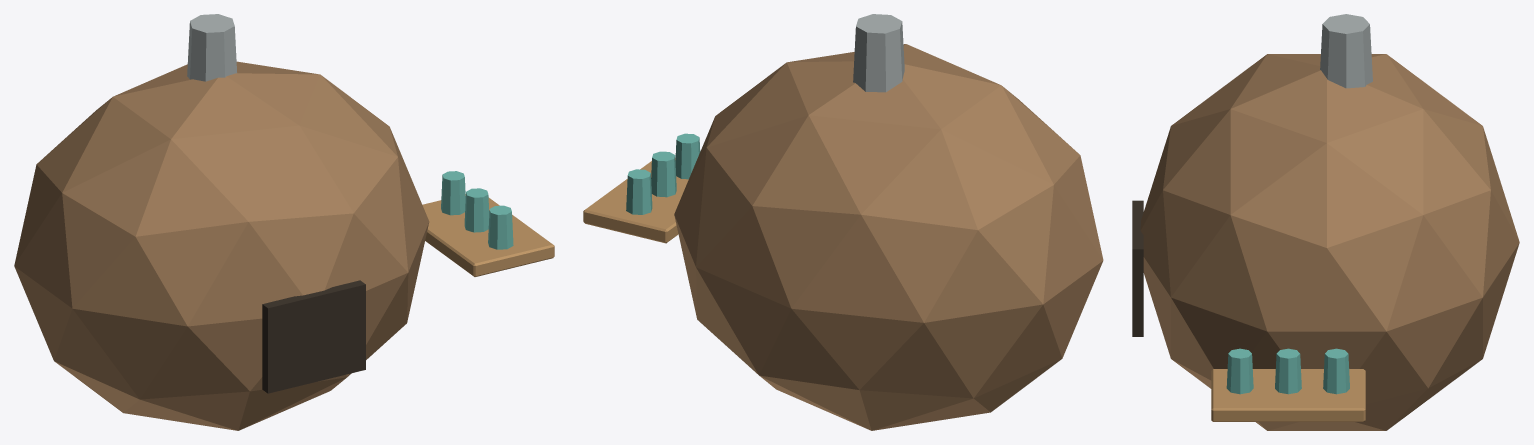
File: CC_Kiln.fbx
3 views of the same model, side by side, from view 1: azimuth 30°, elevation 25°; view 2: azimuth 150°, elevation 25°; view 3: azimuth 270°, elevation 25° (orthographic). The views are drawn at different scales.
Visible parts, largest first — view 1: Kiln dome, Kiln mouth, Glass shelf, Kiln vent, Glass vessel, Glass vessel.001, Glass vessel.002; view 2: Kiln dome, Kiln vent, Glass shelf, Glass vessel.002, Glass vessel.001, Glass vessel; view 3: Kiln dome, Glass shelf, Kiln vent, Kiln mouth, Glass vessel, Glass vessel.002, Glass vessel.001.
Part boxes in pixels (<box>): Kiln dome: <box>14,61,429,430</box>; Kiln mouth: <box>262,280,365,393</box>; Glass shelf: <box>422,194,554,276</box>; Kiln vent: <box>187,14,236,81</box>; Glass vessel: <box>488,205,513,249</box>; Glass vessel.001: <box>464,188,489,232</box>; Glass vessel.002: <box>441,171,465,215</box>; Kiln dome: <box>674,44,1103,430</box>; Kiln vent: <box>853,14,904,92</box>; Glass shelf: <box>583,158,688,243</box>; Glass vessel.002: <box>626,169,652,214</box>; Glass vessel.001: <box>651,151,676,197</box>; Glass vessel: <box>675,133,700,179</box>; Kiln dome: <box>1140,54,1519,430</box>; Glass shelf: <box>1211,369,1365,421</box>; Kiln vent: <box>1320,14,1372,88</box>; Kiln mouth: <box>1132,200,1143,336</box>; Glass vessel: <box>1226,348,1253,394</box>; Glass vessel.002: <box>1323,348,1349,394</box>; Glass vessel.001: <box>1275,348,1301,394</box>.
Bounding box in the file's own units: 2.79 × 2.25 × 2.01.
